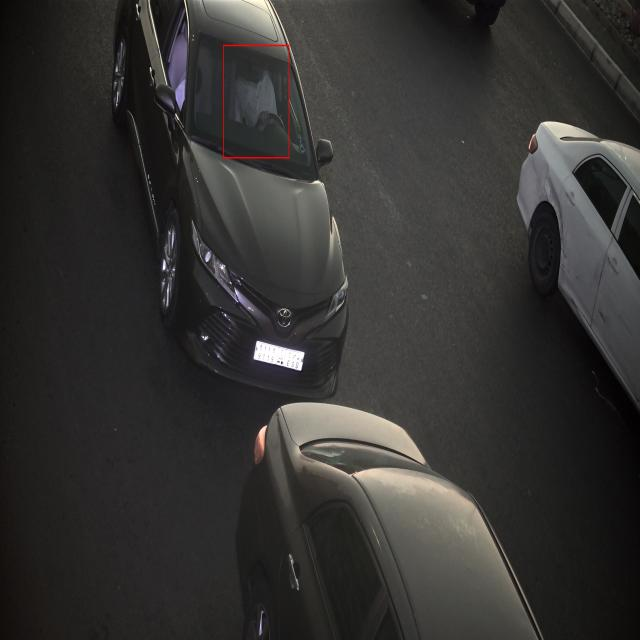windshield: (189, 26, 321, 178)
